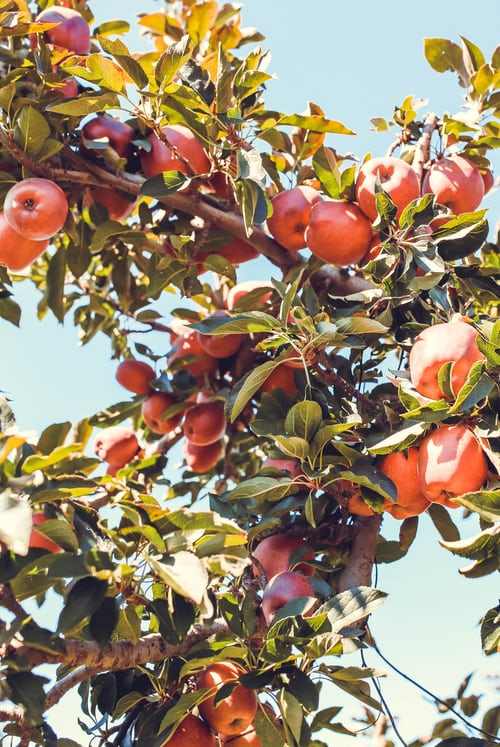apple: (405, 319, 483, 400), (415, 421, 486, 507), (200, 653, 263, 737), (305, 194, 370, 265), (356, 153, 422, 220), (5, 180, 71, 247), (422, 153, 487, 216), (381, 438, 426, 523), (146, 123, 205, 179), (134, 389, 181, 433)
